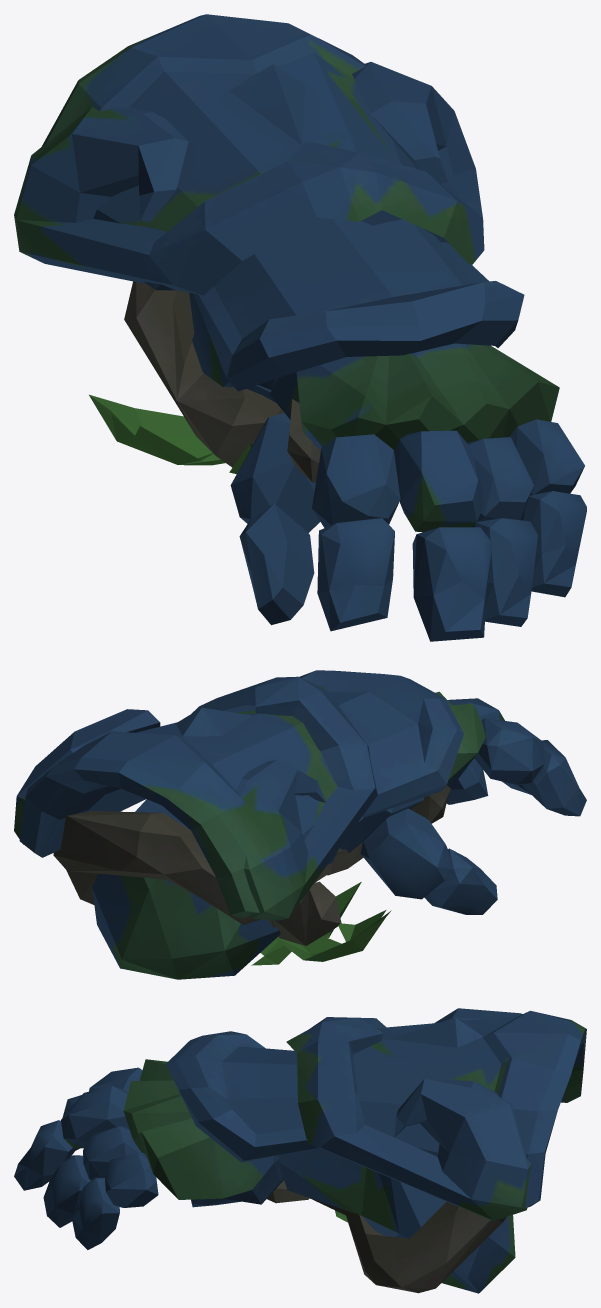
The model's file is Left_Hand_Fix.fbx.
3 renders of one model, top to bottom at view 1: azimuth 30°, elevation 25°; view 2: azimuth 150°, elevation 25°; view 3: azimuth 270°, elevation 25°, orthographic. The views are drawn at different scales.
Parts seen in each view (by area): view 1: 3909_9, 3909_13, 3909_11, 3909_7; view 2: 3909_9, 3909_7, 3909_13, 3909_11; view 3: 3909_9, 3909_13, 3909_7, 3909_11.
Part boxes in pixels (x1,y1,x2,y2): 3909_9: (14,14,484,295); 3909_13: (230,343,586,641); 3909_11: (193,218,524,391); 3909_7: (89,281,284,473); 3909_9: (14,676,377,920); 3909_7: (53,799,391,979); 3909_13: (327,691,586,914); 3909_11: (299,670,463,817); 3909_9: (286,1008,586,1220); 3909_13: (14,1059,309,1249); 3909_7: (278,1148,515,1293); 3909_11: (166,1031,318,1162).
Size of the model in its own units: 1209 by 975 by 2012.
1 material, 1 textured.
